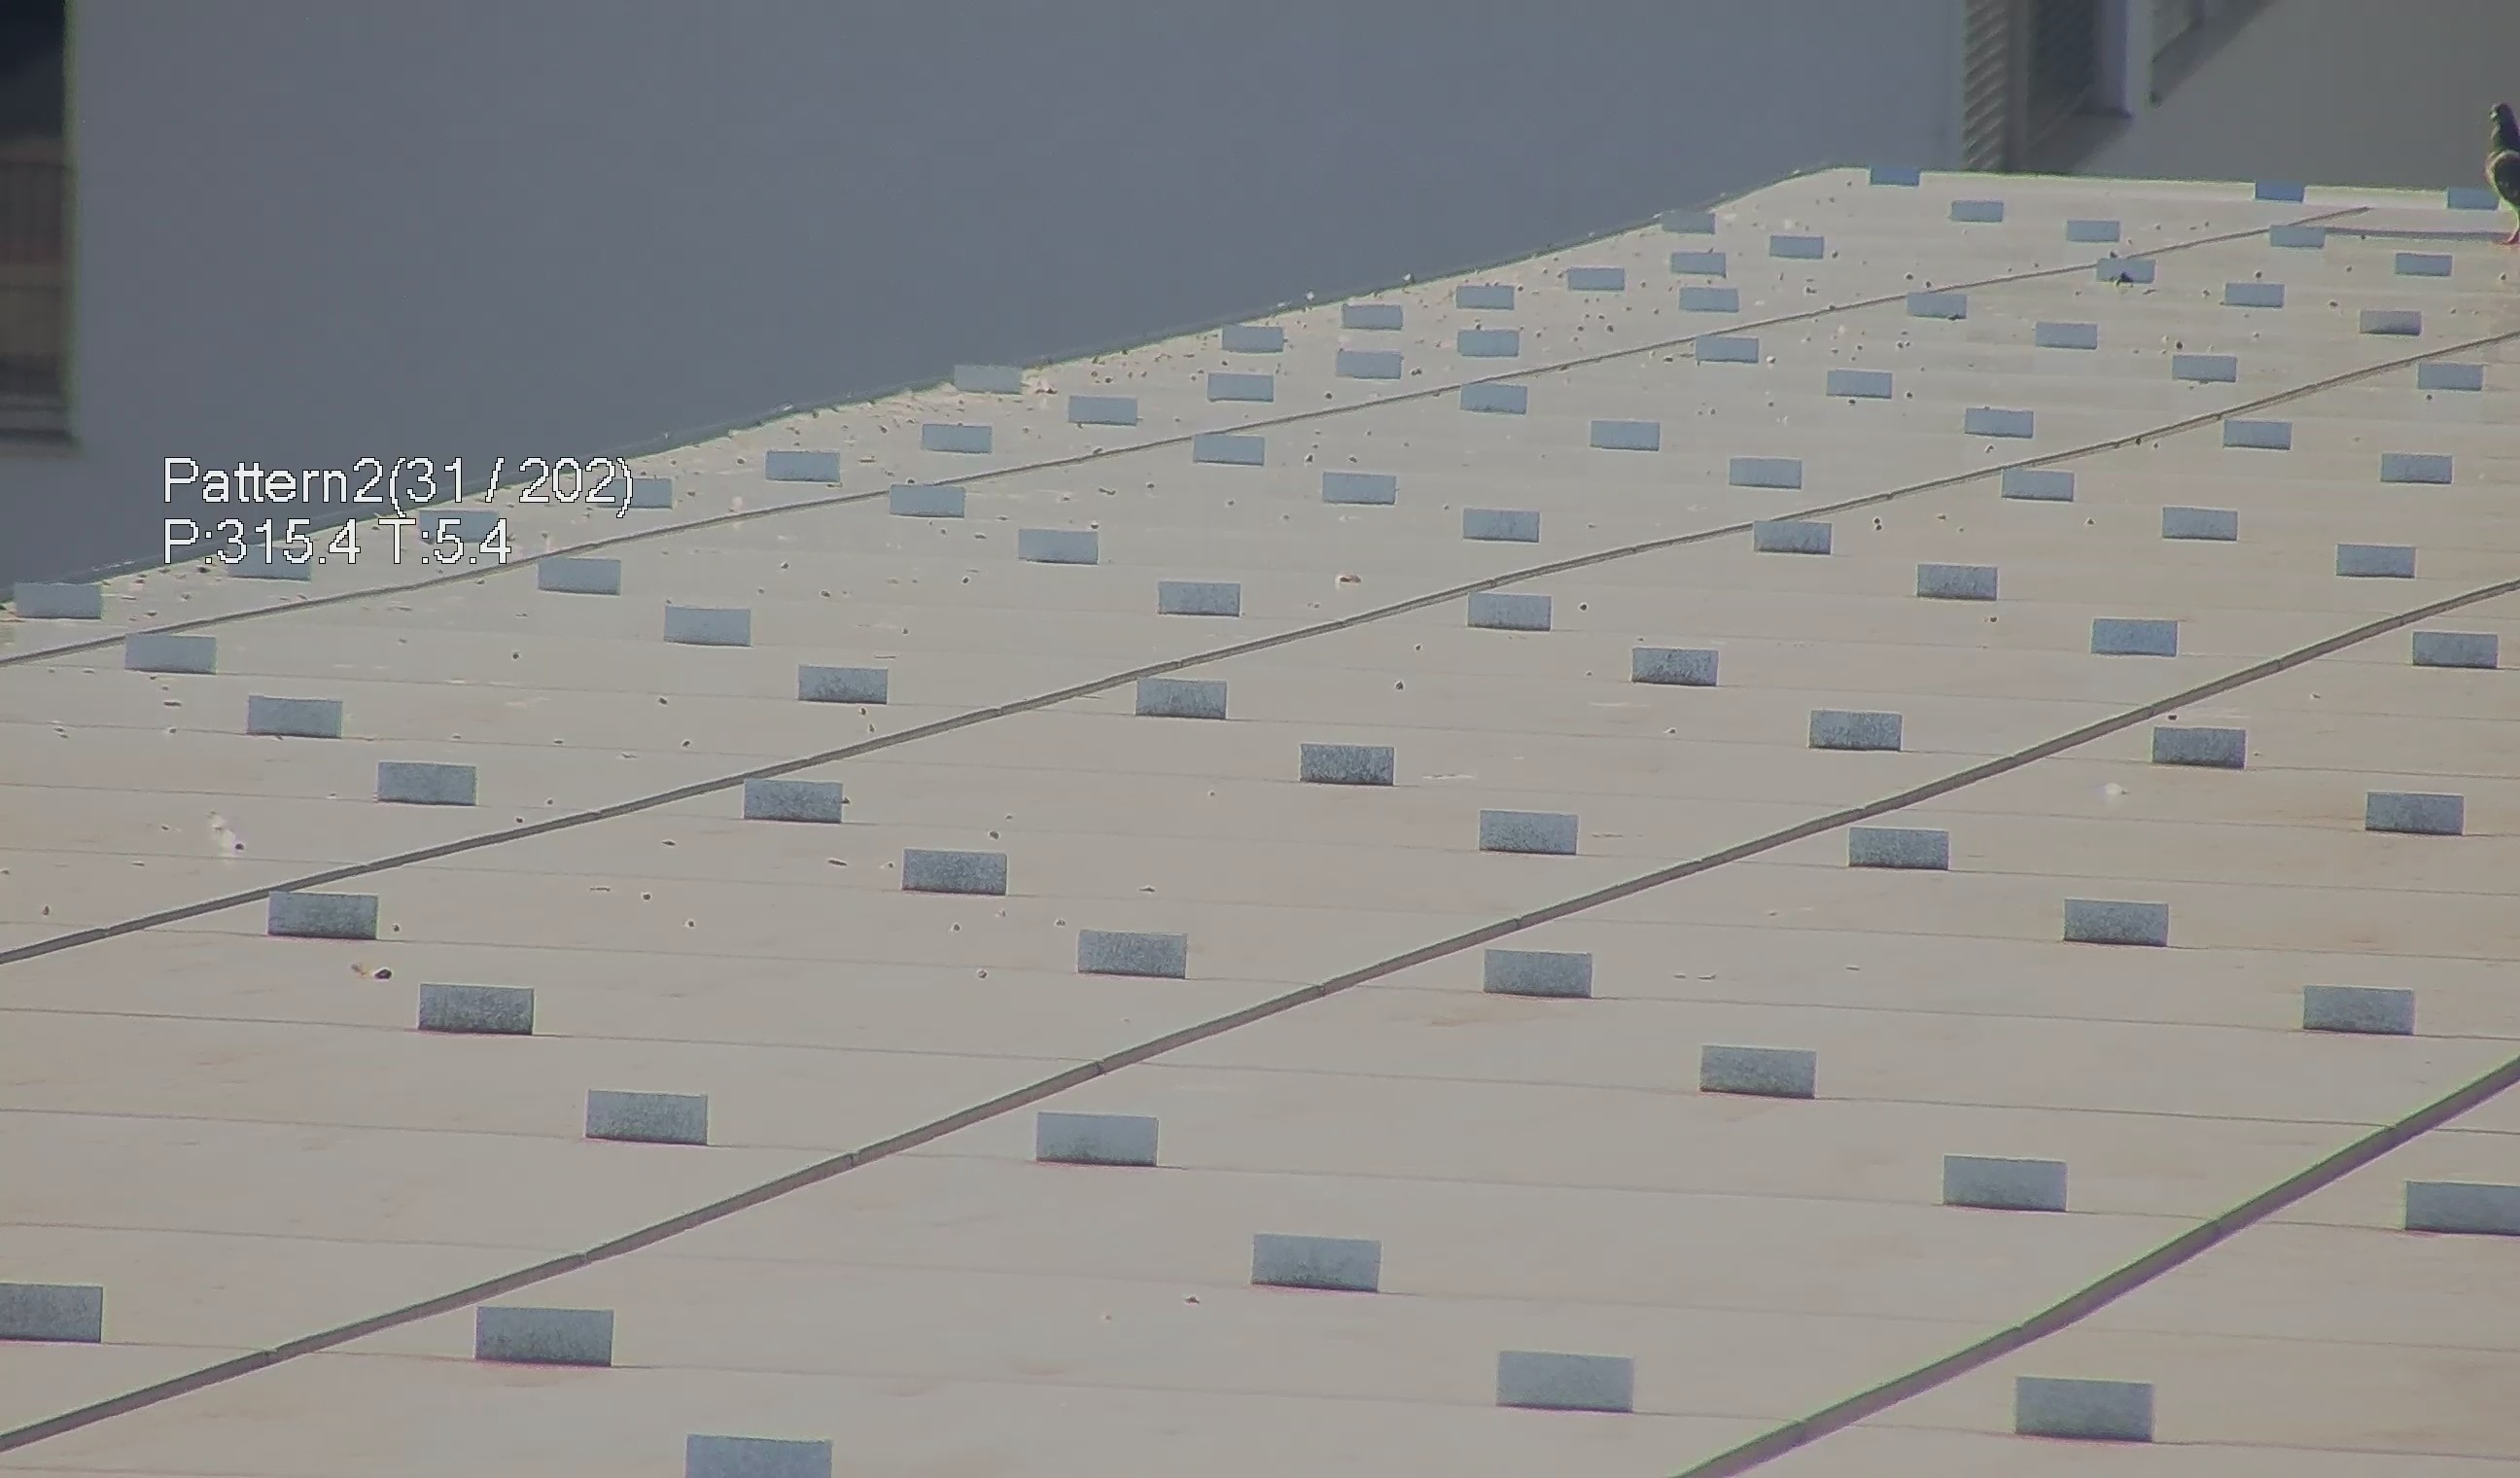Pigeon: (2490, 95, 2520, 252)
